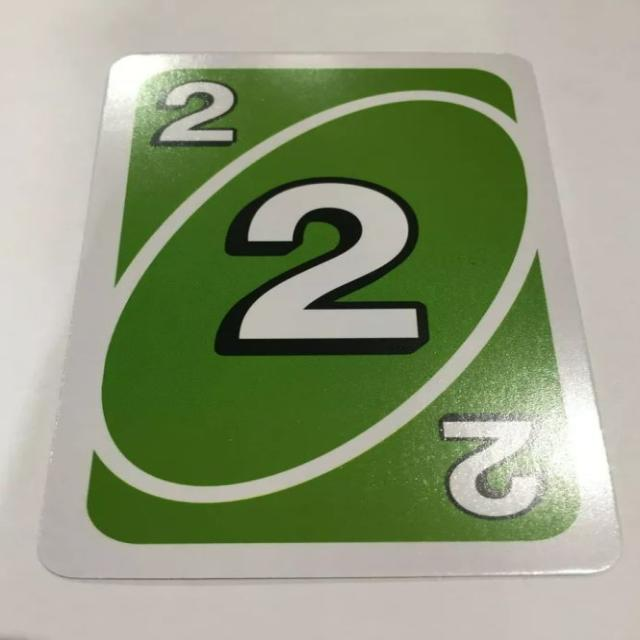Green_Card: (79, 61, 586, 549)
Number_2: (153, 76, 240, 152)
